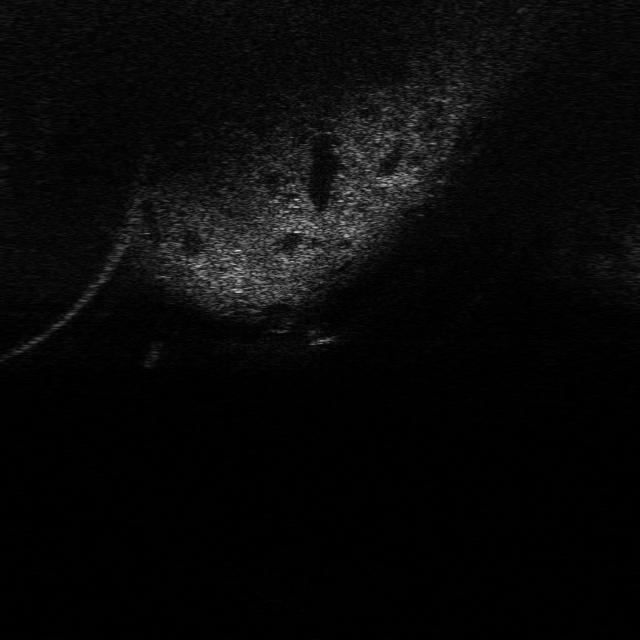cube: (304, 322, 342, 345)
cylinder: (138, 339, 164, 369)
